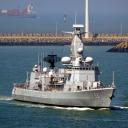Fragata: (11, 24, 119, 112)
